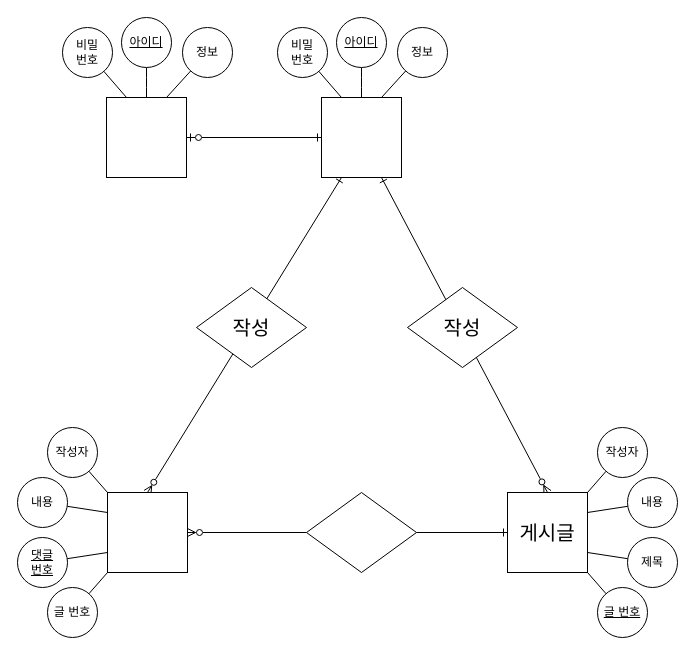
Some shapes in this 695 by 655 pixel diagram are drawn without their labels. Here are the shapes that lost their labels. From the top down, the box of each, then its label:
(106, 96, 186, 178): 관리자
(320, 96, 402, 178): 회원
(106, 492, 188, 572): 댓글
(306, 492, 416, 572): 포함
